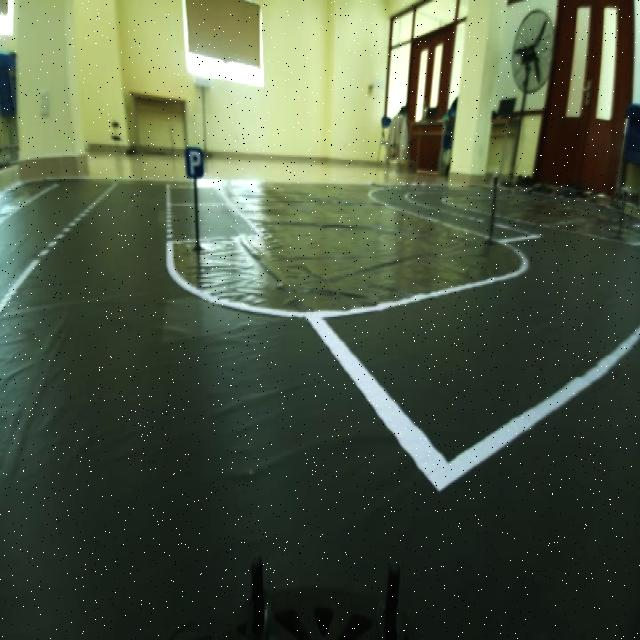parking: (177, 138, 208, 184)
